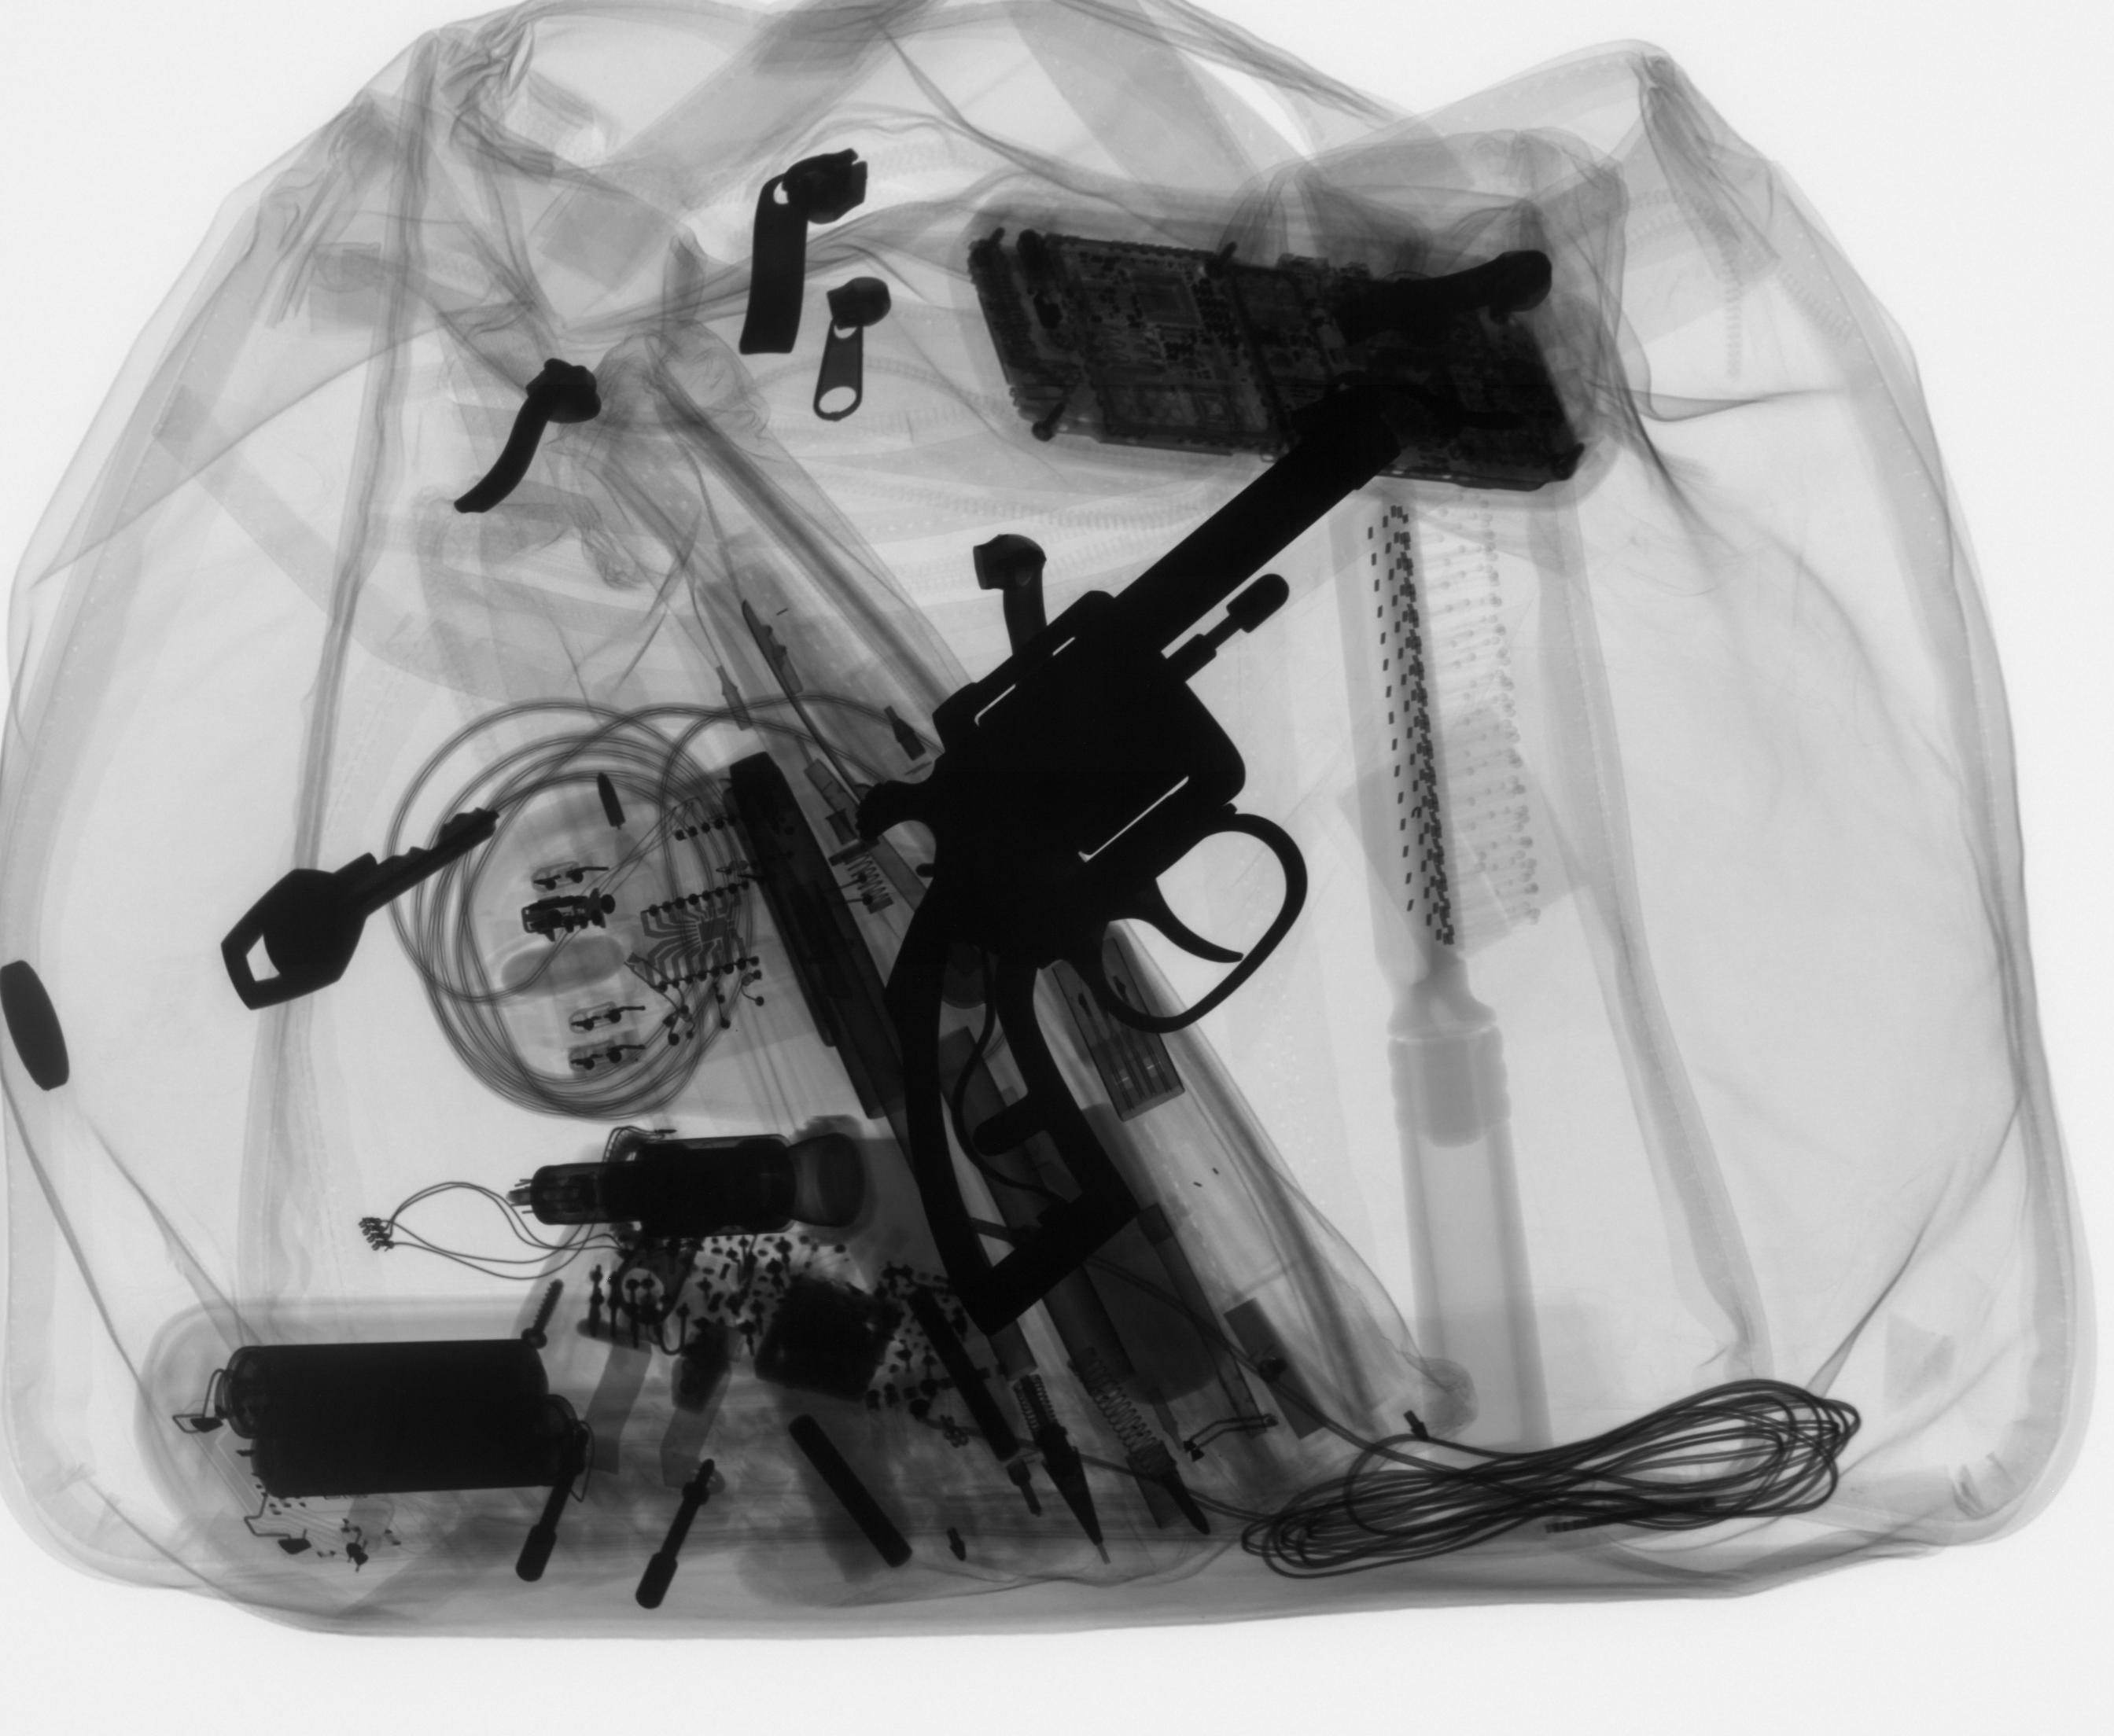Handgun: (845, 386, 1420, 1351)
